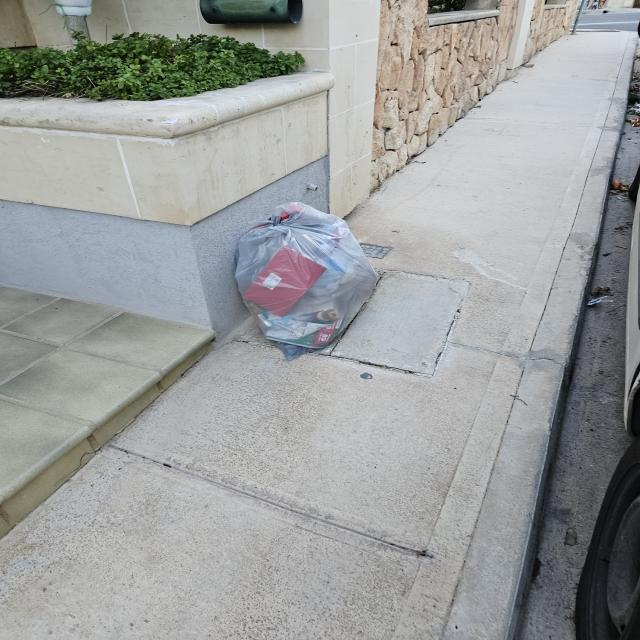grey_bag: (233, 198, 385, 362)
